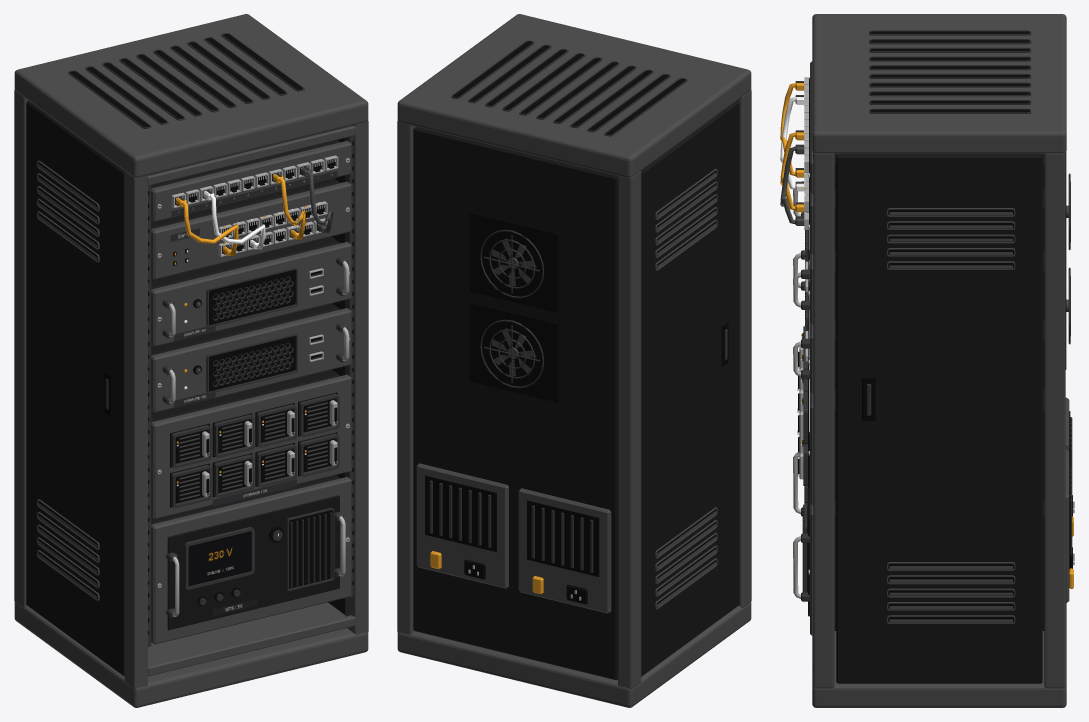
Rendered from server_rack.glb.
3 views of the same model, side by side, from view 1: azimuth 30°, elevation 25°; view 2: azimuth 150°, elevation 25°; view 3: azimuth 270°, elevation 25° (orthographic). The views are drawn at different scales.
Parts seen in each view (by area): view 1: Server_Rack; view 2: Server_Rack; view 3: Server_Rack.
Boxes of the visible parts, x1,y1,x2,y2 form: Server_Rack: [14, 14, 368, 707]; Server_Rack: [397, 14, 751, 707]; Server_Rack: [780, 14, 1074, 707].
Bounding box in the file's own units: 2.93 × 6.51 × 3.01.
8 materials, 1 textured.
